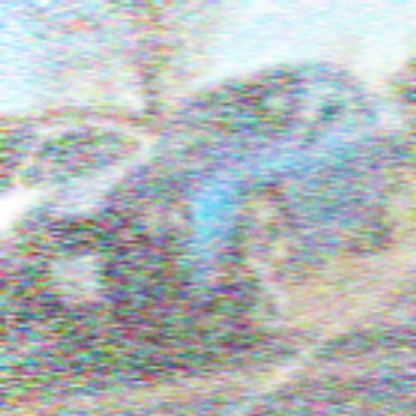Vehicle: (12, 61, 410, 361)
